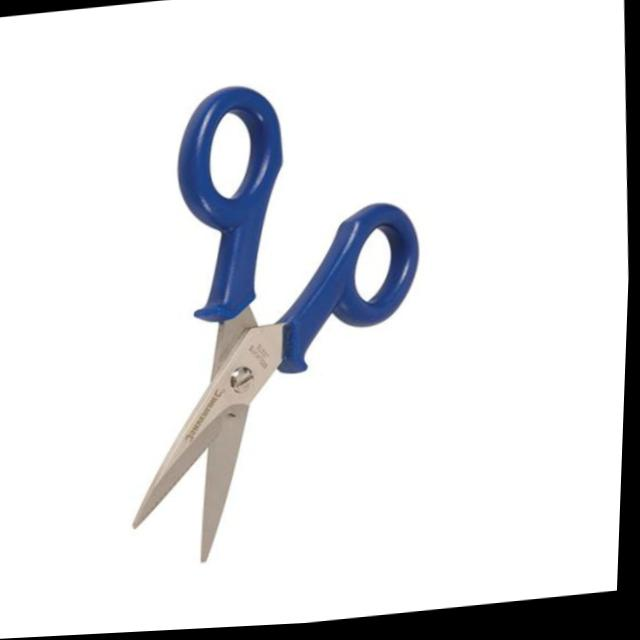scissor: (113, 44, 443, 580)
